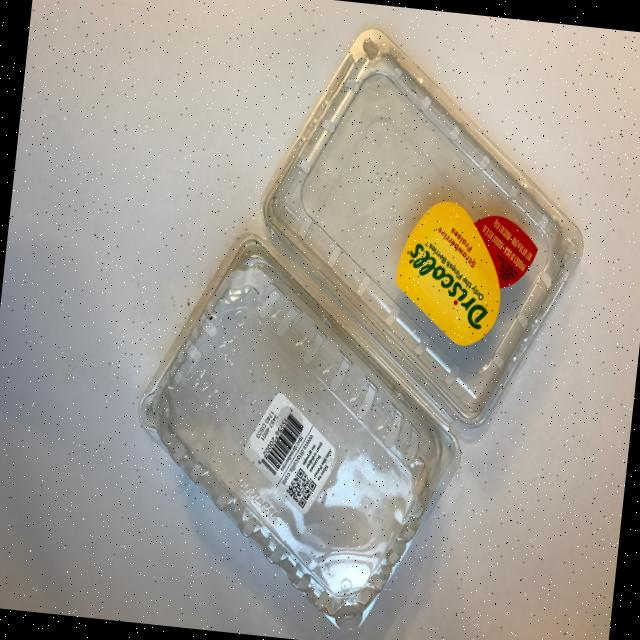plastic: (104, 0, 615, 640)
